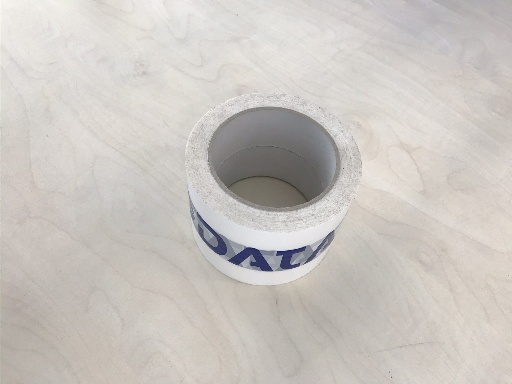Nastro: (183, 90, 366, 288)
